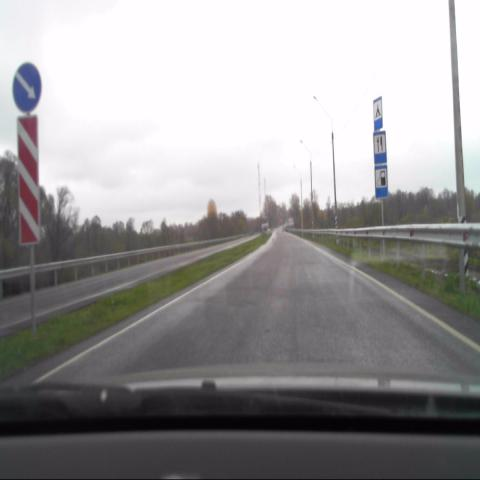7_7: (374, 132, 386, 164)
